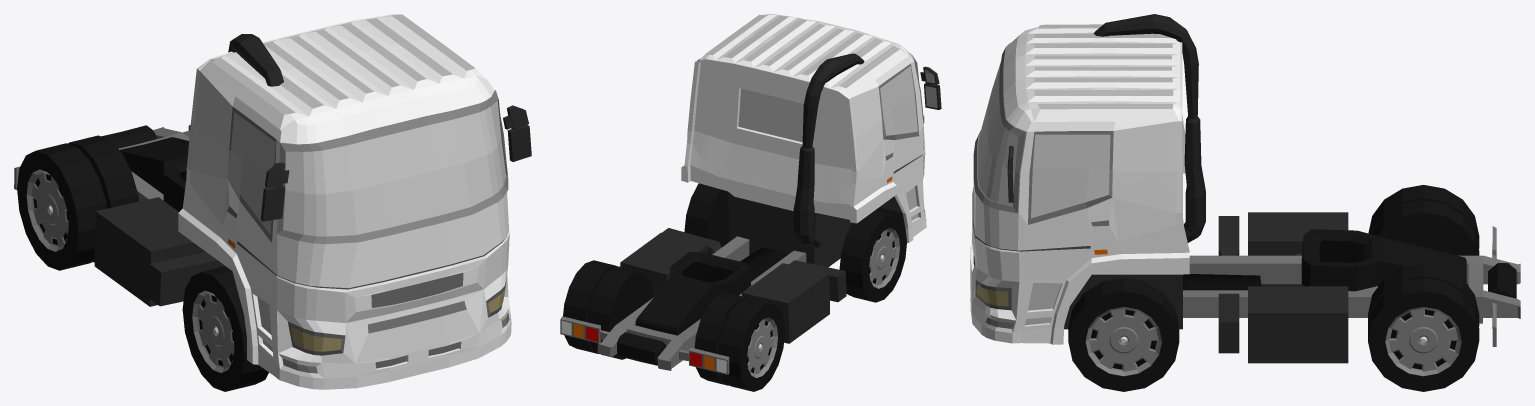
File: Truck - Head.fbx
The picture shows the model from 3 angles, left to right: view 1: azimuth 30°, elevation 25°; view 2: azimuth 150°, elevation 25°; view 3: azimuth 270°, elevation 25°; orthographic projection. The views are drawn at different scales.
Visible parts, largest first — view 1: Tractor_Material.001_0, RBWheel_Material.001_0, RFwheel_Material.001_0; view 2: Tractor_Material.001_0, RBWheel_Material.001_0, LBWheel_Material.001_0, RFwheel_Material.001_0, LFwheel_Material.001_0; view 3: Tractor_Material.001_0, LBWheel_Material.001_0, LFwheel_Material.001_0, RBWheel_Material.001_0.
Part boxes in pixels (x1,y1,x2,y2): Tractor_Material.001_0: [14, 14, 531, 389]; RBWheel_Material.001_0: [17, 135, 138, 270]; RFwheel_Material.001_0: [182, 266, 268, 391]; Tractor_Material.001_0: [560, 14, 941, 374]; RBWheel_Material.001_0: [694, 292, 785, 391]; LBWheel_Material.001_0: [563, 260, 653, 359]; RFwheel_Material.001_0: [839, 210, 906, 302]; LFwheel_Material.001_0: [684, 183, 729, 247]; Tractor_Material.001_0: [970, 14, 1520, 363]; LBWheel_Material.001_0: [1368, 263, 1479, 391]; LFwheel_Material.001_0: [1068, 278, 1179, 391]; RBWheel_Material.001_0: [1368, 185, 1479, 286].
Bounding box in the file's own units: 215 × 248 × 421.
